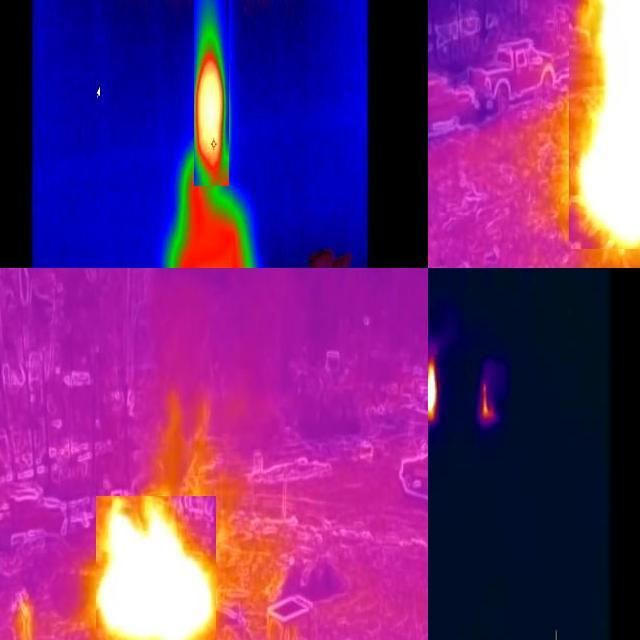fire: (570, 1, 640, 250), (97, 497, 217, 640), (195, 1, 230, 187), (481, 379, 497, 428), (429, 356, 440, 426)
